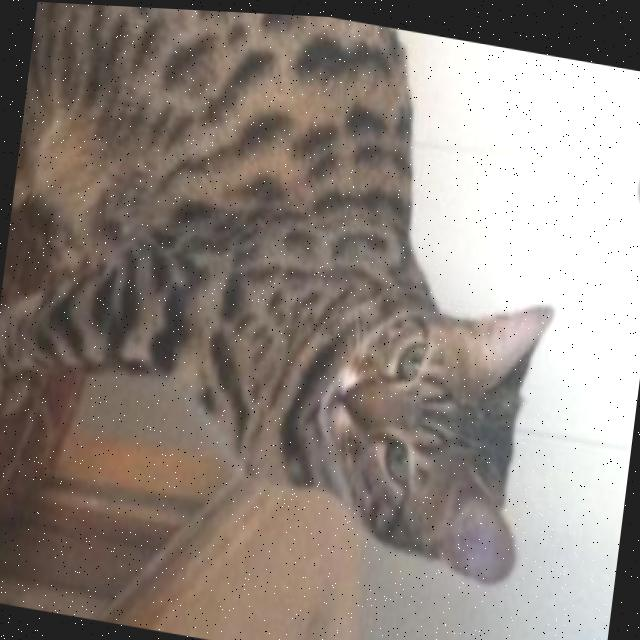Bengal: (0, 0, 597, 601)
